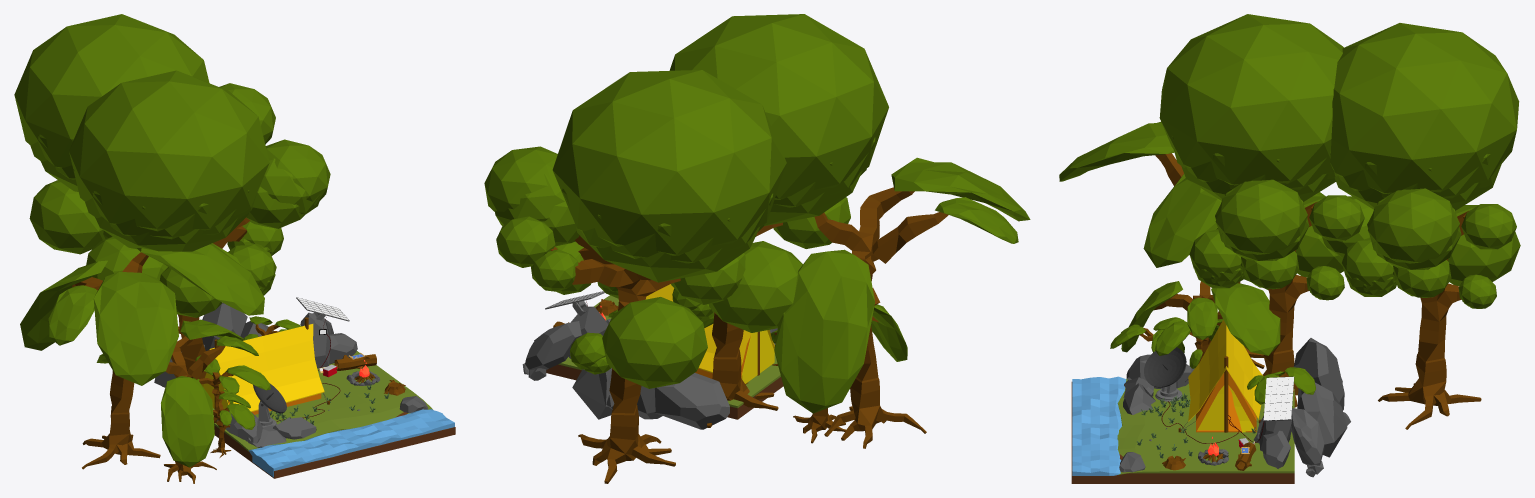
The model's file is camp_export7.glb.
3 views of the same model, side by side, from view 1: azimuth 30°, elevation 25°; view 2: azimuth 150°, elevation 25°; view 3: azimuth 270°, elevation 25° (orthographic). The views are drawn at different scales.
Visible parts, largest first — view 1: Big tree leaves, Big tree leaves.001, Small Tree 2.003, Small Tree 2.002, Rock2.007, Tent-main.001, Rock2.003, Rock2.005, Rock_1.004, Rock2.009, Rock2.001, Small Tree 2.001 (+4 smaller); view 2: Big tree leaves.001, Big tree leaves, Small Tree 2.003, Big Tree.001, Rock2.009, Big Tree, Small Tree 2.002, Rock.001, Tent-main.002, Tent-main.001, Rock2.007, Rock2.001 (+1 smaller); view 3: Big tree leaves.001, Big tree leaves, Small Tree 2.003, Rock2.007, Small Tree 2.002, Rock2.003, Big Tree.001, Rock2.009, Tent-main.001, Big Tree, Rock2.005, Rock_1.004 (+11 smaller).
Boxes of the visible parts, <box> form: Big tree leaves: <box>69,70,330,317</box>; Big tree leaves.001: <box>14,14,275,254</box>; Small Tree 2.003: <box>20,243,264,469</box>; Small Tree 2.002: <box>96,319,258,483</box>; Rock2.007: <box>213,351,432,451</box>; Tent-main.001: <box>201,324,324,411</box>; Rock2.003: <box>248,409,454,477</box>; Rock2.005: <box>214,427,455,478</box>; Rock_1.004: <box>216,411,316,447</box>; Rock2.009: <box>154,303,273,387</box>; Rock2.001: <box>304,313,357,368</box>; Small Tree 2.001: <box>210,392,255,457</box>; Big tree leaves.001: <box>484,70,786,388</box>; Big tree leaves: <box>669,14,888,332</box>; Small Tree 2.003: <box>774,157,1030,448</box>; Big Tree.001: <box>550,235,680,483</box>; Rock2.009: <box>522,363,729,429</box>; Big Tree: <box>707,222,782,427</box>; Small Tree 2.002: <box>699,304,907,443</box>; Rock.001: <box>525,321,581,369</box>; Tent-main.002: <box>741,330,774,383</box>; Tent-main.001: <box>645,284,774,373</box>; Rock2.007: <box>558,295,780,408</box>; Rock2.001: <box>534,306,608,358</box>; Big tree leaves.001: <box>1322,23,1520,308</box>; Big tree leaves: <box>1159,14,1364,300</box>; Small Tree 2.003: <box>1059,122,1325,368</box>; Rock2.007: <box>1117,379,1294,474</box>; Small Tree 2.002: <box>1121,276,1280,355</box>; Rock2.003: <box>1072,376,1126,475</box>; Big Tree.001: <box>1378,210,1481,429</box>; Rock2.009: <box>1293,338,1350,477</box>; Tent-main.001: <box>1188,319,1262,421</box>; Big Tree: <box>1262,202,1316,407</box>; Rock2.005: <box>1071,476,1294,483</box>; Rock_1.004: <box>1123,354,1194,414</box>.
Bounding box in the file's own units: 15.94 × 15.6 × 16.55.
